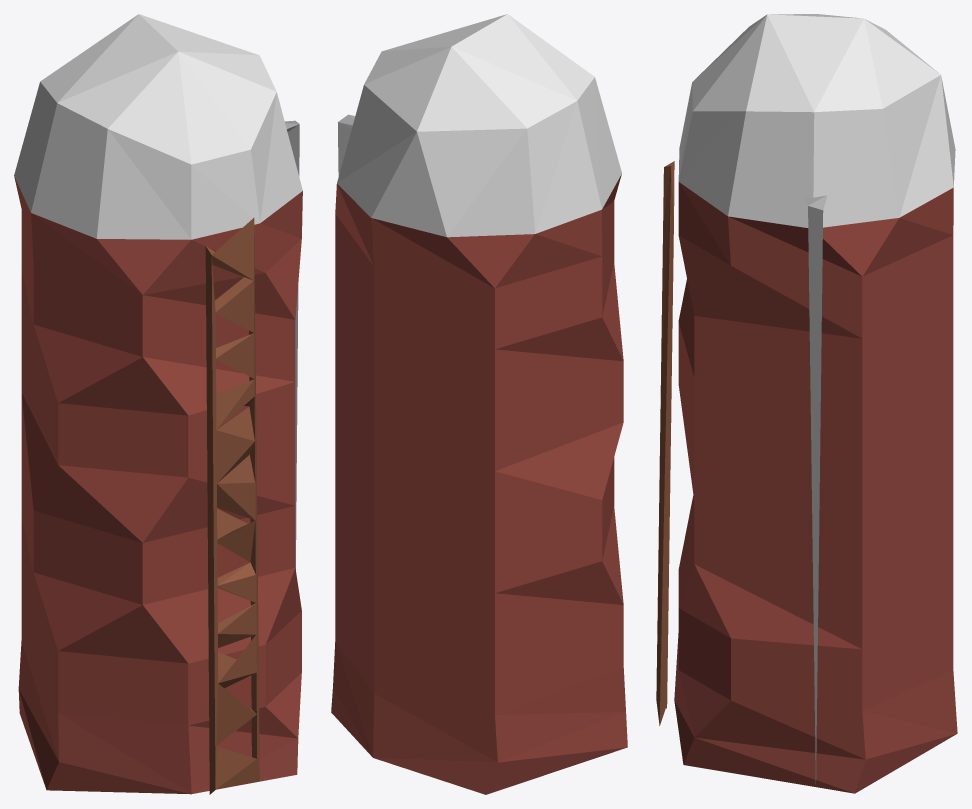
The model's file is Silo.lod2.glb.
3 renders of one model, left to right at view 1: azimuth 30°, elevation 25°; view 2: azimuth 150°, elevation 25°; view 3: azimuth 270°, elevation 25°, orthographic.
Visible parts, largest first — view 1: Silo; view 2: Silo; view 3: Silo.
Boxes of the visible parts, <box> form: Silo: <box>14,14,302,794</box>; Silo: <box>331,14,627,794</box>; Silo: <box>656,14,957,793</box>.
Bounding box in the file's own units: 3.63 × 9.08 × 3.48.
